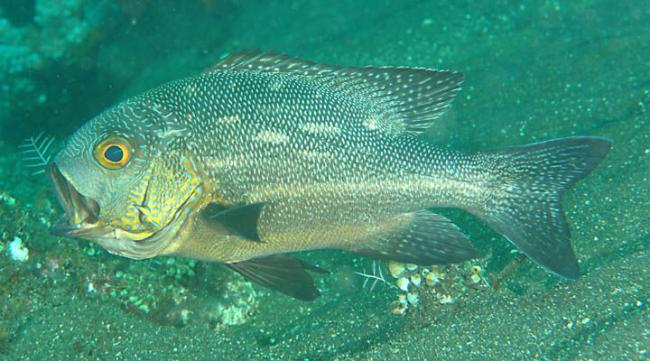fish: (49, 50, 614, 301)
